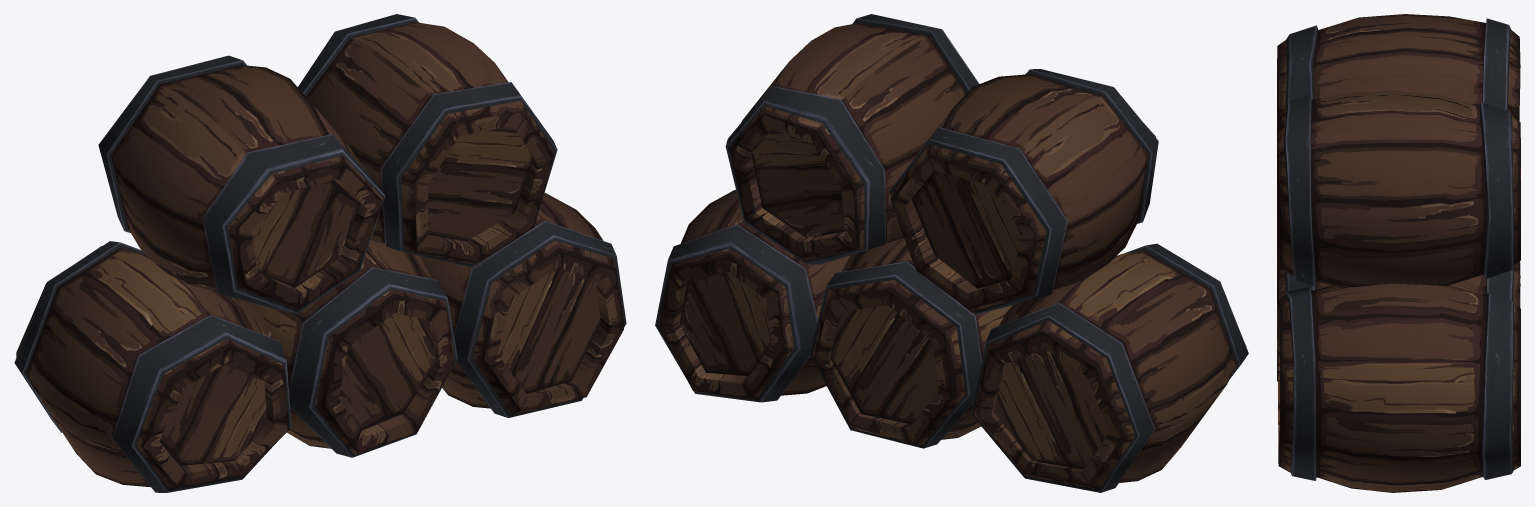
The model's file is SM_PROP_barrel_dungeon_03.fbx.
The picture shows the model from 3 angles, left to right: view 1: azimuth 30°, elevation 25°; view 2: azimuth 150°, elevation 25°; view 3: azimuth 270°, elevation 25°; orthographic projection. The views are drawn at different scales.
Parts seen in each view (by area): view 1: SM_PROP_barrel_dungeon_03; view 2: SM_PROP_barrel_dungeon_03; view 3: SM_PROP_barrel_dungeon_03.
Boxes of the visible parts, <box> form: SM_PROP_barrel_dungeon_03: <box>14,14,626,492</box>; SM_PROP_barrel_dungeon_03: <box>655,14,1248,492</box>; SM_PROP_barrel_dungeon_03: <box>1277,14,1520,492</box>.
Size of the model in its own units: 203 by 129 by 84.94.
